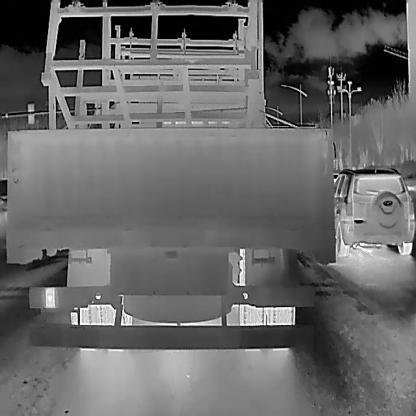car: (4, 37, 338, 351), (332, 166, 414, 255)
